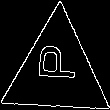P_W: (33, 52, 80, 91)
